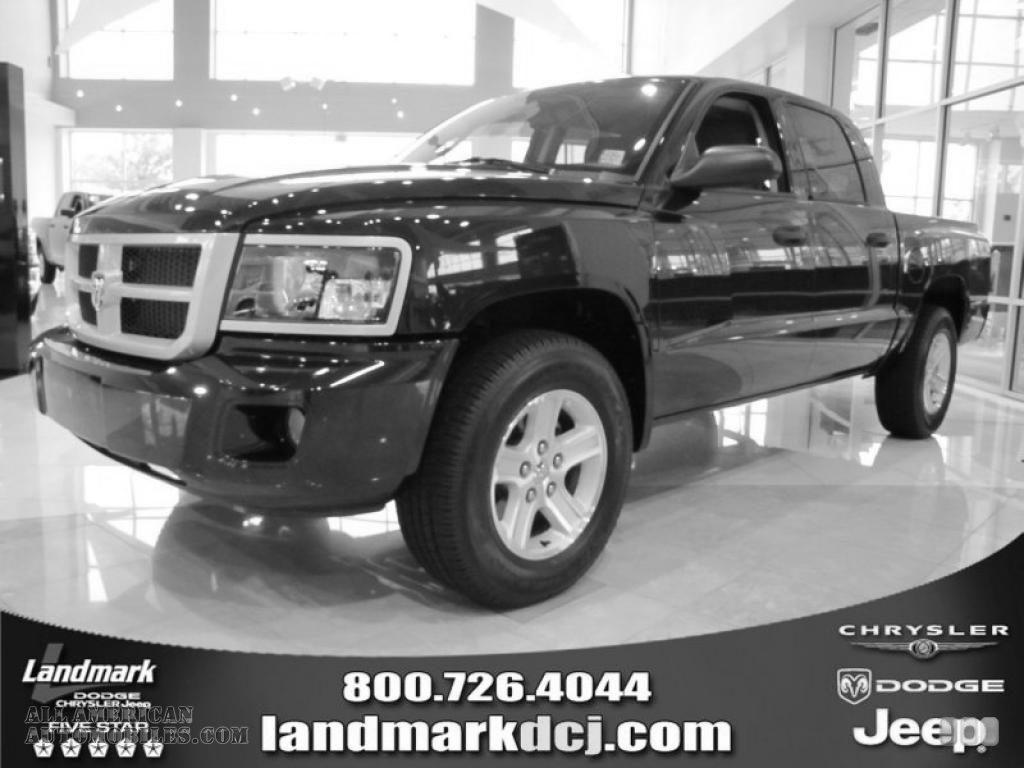car: (37, 74, 994, 615)
